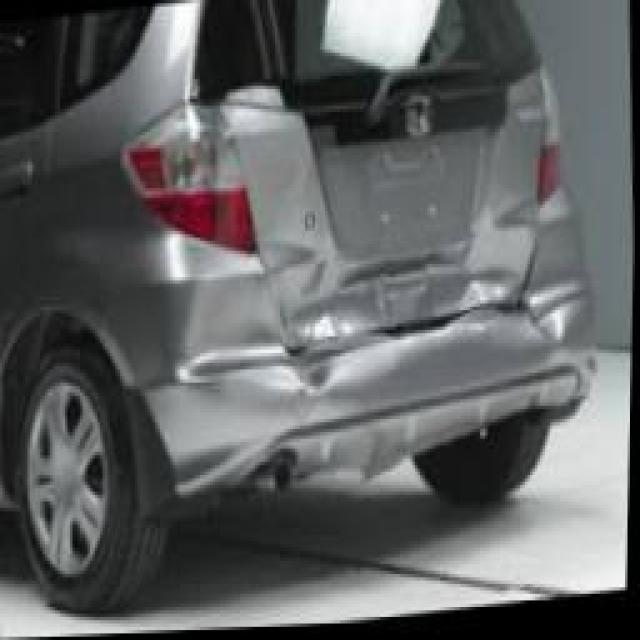replaceable: (183, 232, 603, 429)
